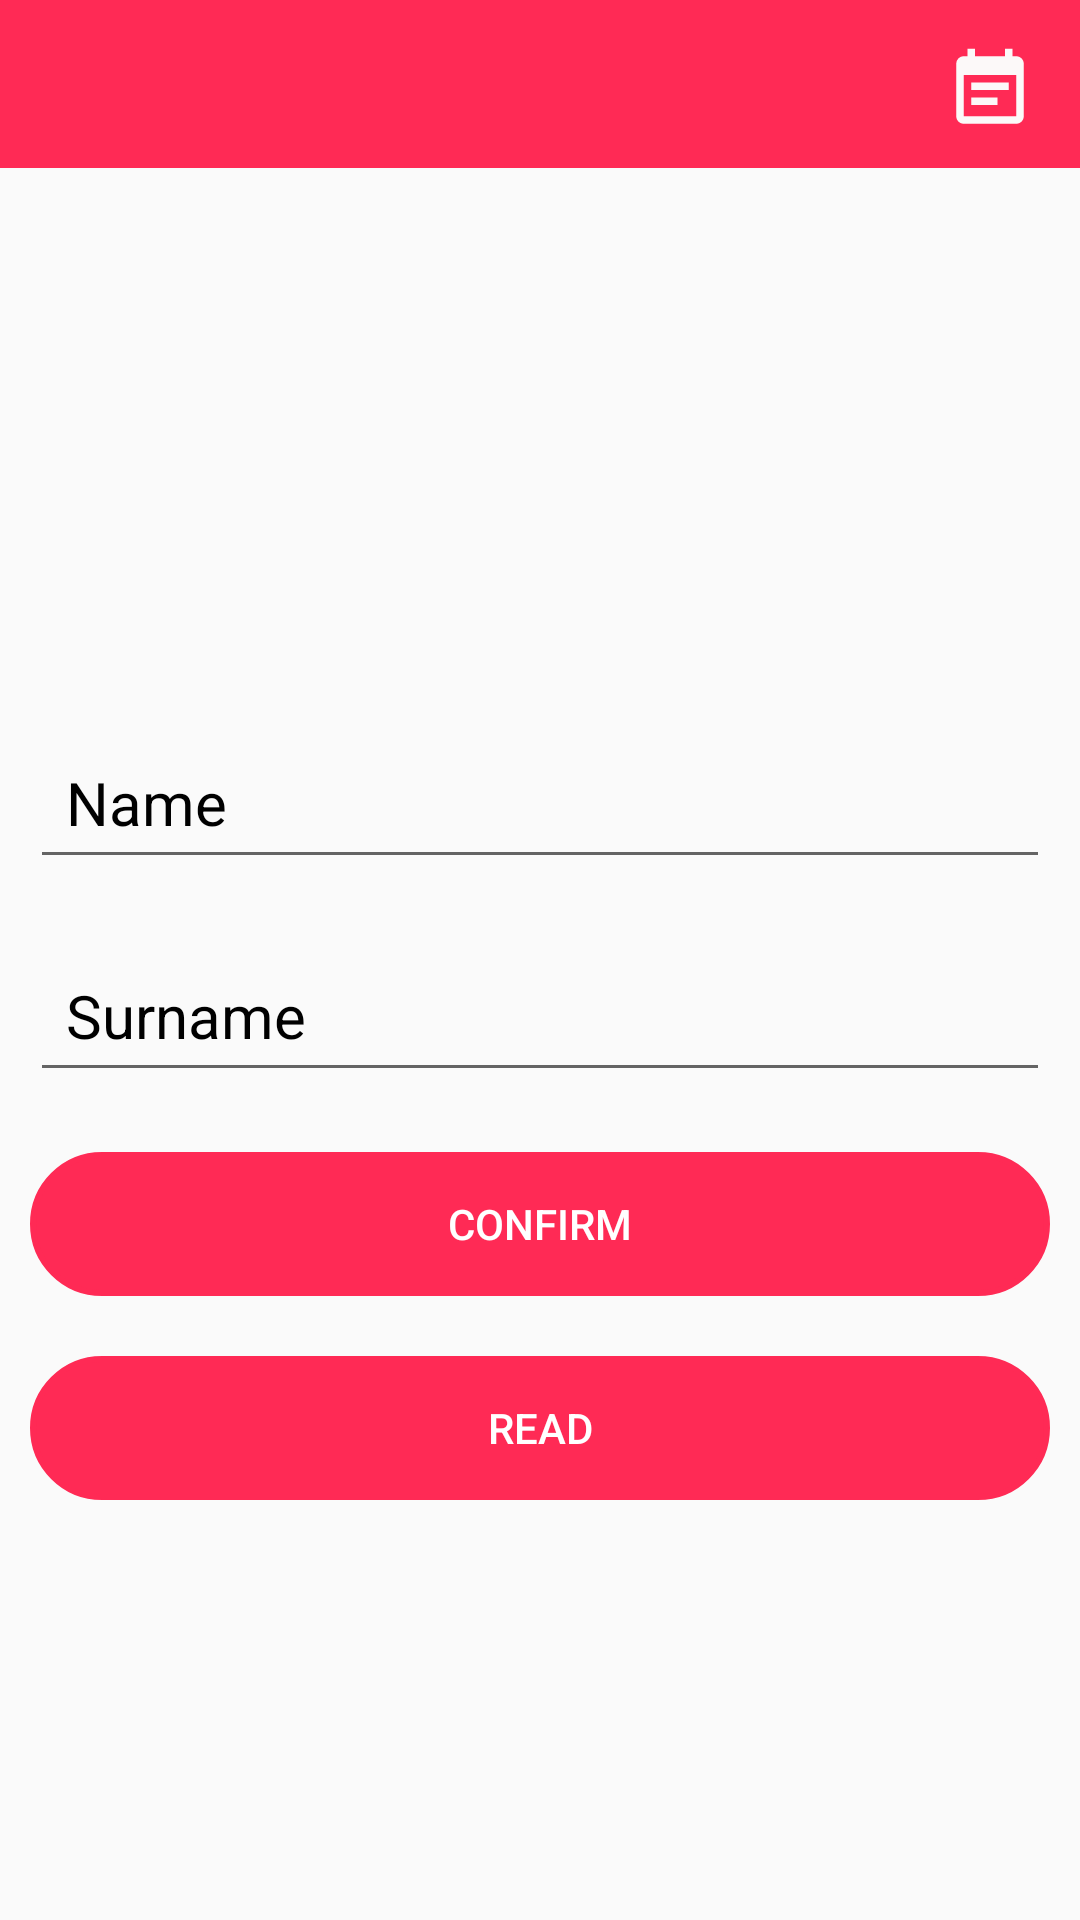

Icons on this 1080x1920 Android screen, each with the point to tap as (x=x, y=y):
note: (x=990, y=86)
